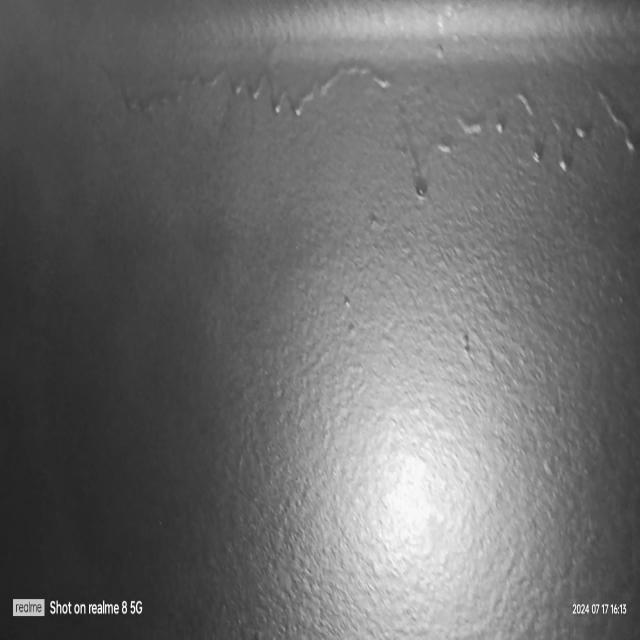paint drips: (96, 39, 640, 210), (420, 4, 470, 82)
